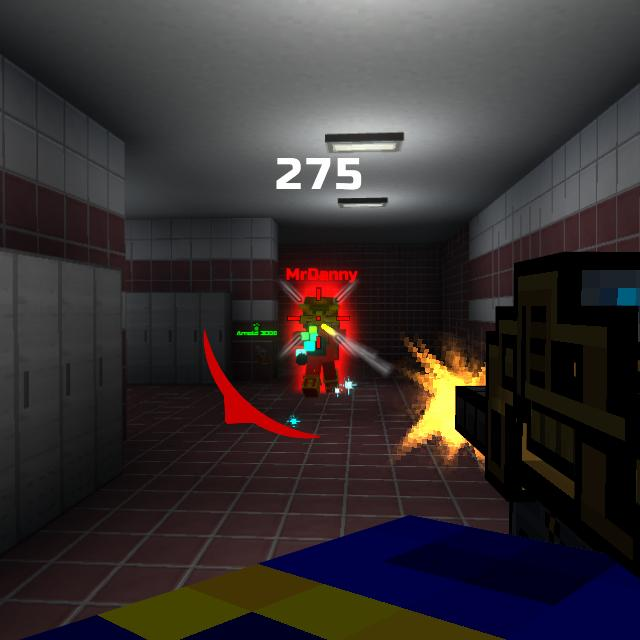Enemy: (290, 294, 345, 396)
